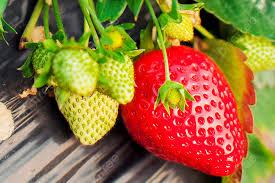straw-ripe: (120, 46, 244, 179)
straw-unripe: (55, 82, 119, 145), (54, 49, 98, 95), (97, 51, 135, 104), (166, 12, 193, 39), (161, 81, 182, 104)
